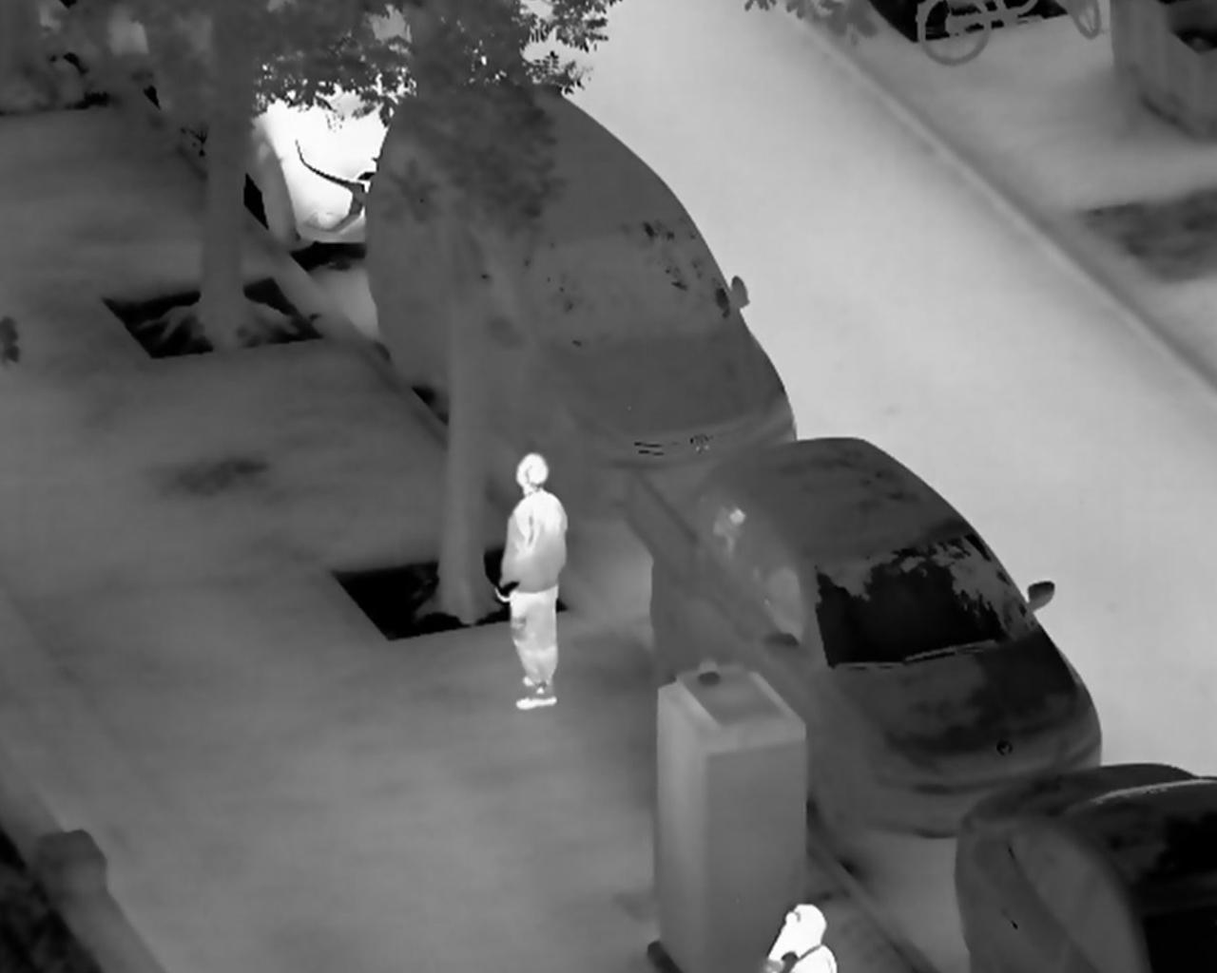person: (493, 452, 572, 713)
